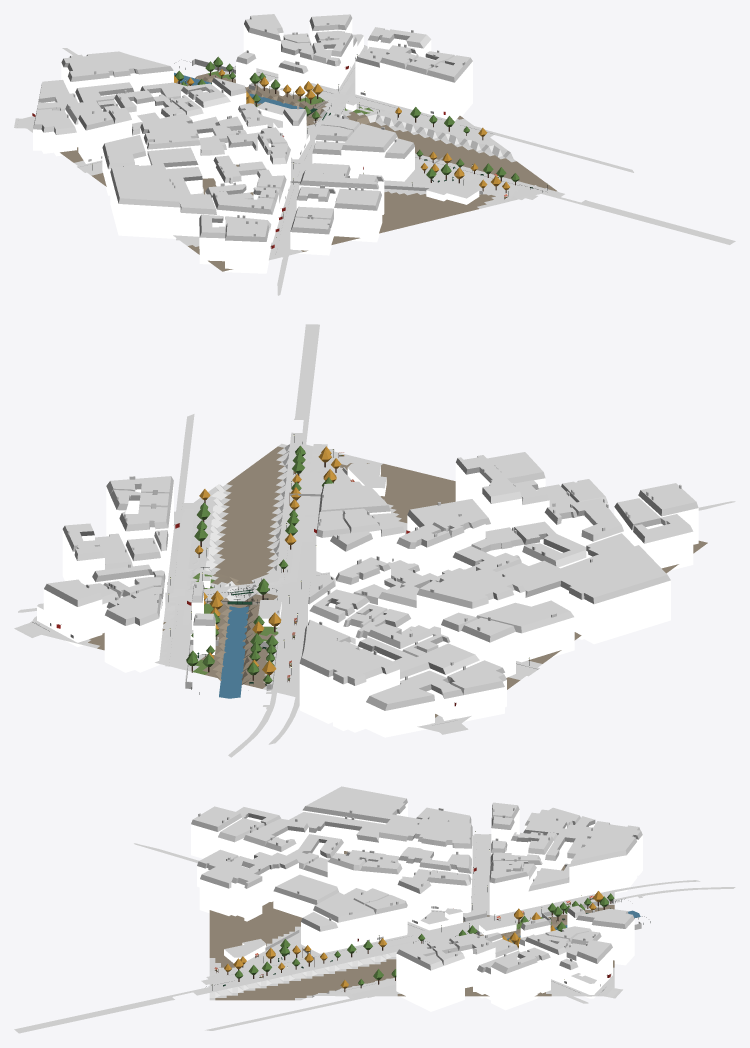
The model's file is zone_A5.glb.
The picture shows the model from 3 angles, top to bottom: view 1: azimuth 30°, elevation 25°; view 2: azimuth 150°, elevation 25°; view 3: azimuth 270°, elevation 25°; orthographic projection. The views are drawn at different scales.
Visible parts, largest first — view 1: zone_A5_batiments, zone_A5_terrain, zone_A5_sol_NOCOL, zone_A5_decor_NOCOL; view 2: zone_A5_batiments, zone_A5_terrain, zone_A5_sol_NOCOL, zone_A5_decor_NOCOL, zone_A5_eau; view 3: zone_A5_batiments, zone_A5_sol_NOCOL, zone_A5_terrain, zone_A5_decor_NOCOL.
Part boxes in pixels (x1,y1,x2,y2): zone_A5_batiments: [33, 14, 482, 273]; zone_A5_terrain: [23, 68, 557, 271]; zone_A5_sol_NOCOL: [14, 45, 735, 295]; zone_A5_decor_NOCOL: [92, 54, 548, 237]; zone_A5_batiments: [37, 452, 698, 737]; zone_A5_terrain: [30, 443, 707, 731]; zone_A5_sol_NOCOL: [14, 324, 735, 757]; zone_A5_decor_NOCOL: [36, 434, 529, 694]; zone_A5_eau: [219, 606, 248, 698]; zone_A5_batiments: [191, 786, 642, 1011]; zone_A5_sol_NOCOL: [14, 834, 735, 1033]; zone_A5_terrain: [209, 835, 614, 1000]; zone_A5_decor_NOCOL: [206, 831, 650, 991].
Size of what is drawn, in the model's own units: 269 by 28.53 by 380.
